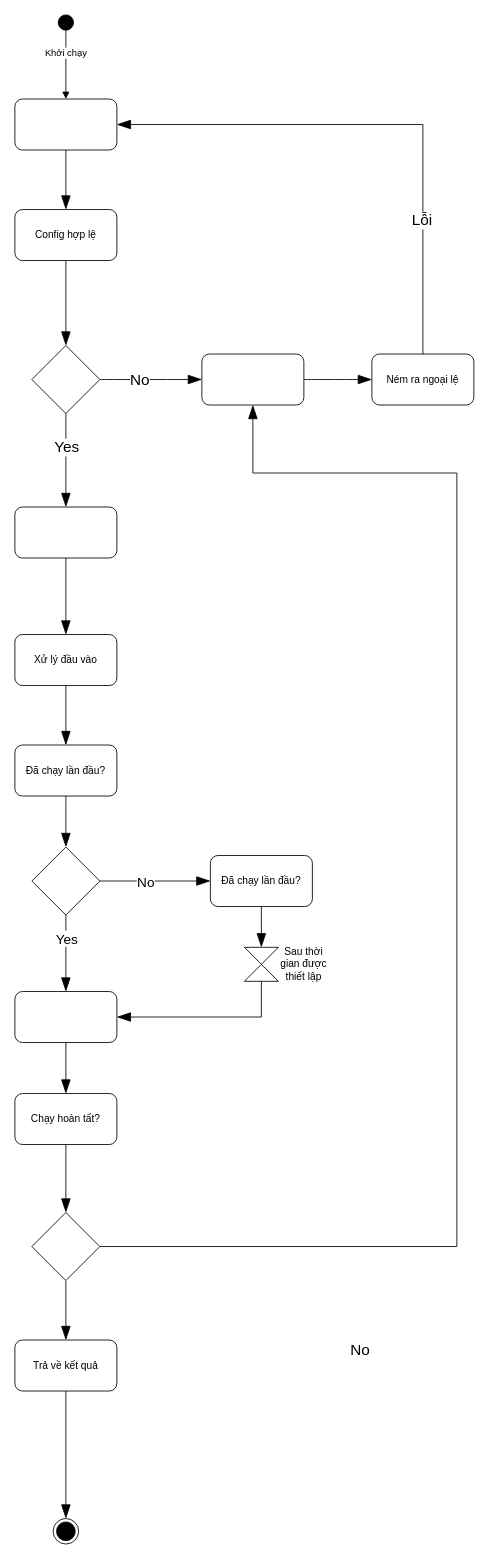
Some shapes in this 489 by 1559 pixel diagram are drawn without their labels. Here are the shapes that lost their labels. From the top down, the centre of each, then its label:
At point 65,124: "Load Model".
At point 252,379: "Lưu trạng thái".
At point 65,532: "Khởi tạo AI Components".
At point 65,1017: "Thực hiện khởi chạy huấn luyện AI".
